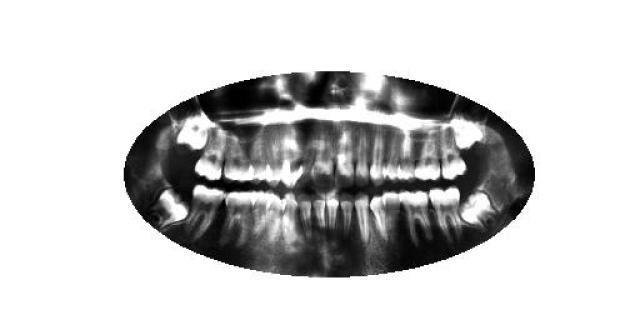Restorations: (150, 186, 192, 228), (458, 190, 498, 231)
